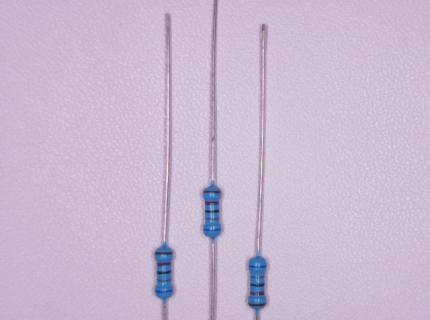Black band: (250, 282, 265, 287), (157, 270, 171, 274), (205, 209, 219, 213)
Blue band: (155, 289, 173, 293), (249, 265, 267, 268), (204, 228, 220, 231)
Brown band: (155, 251, 172, 255), (248, 303, 266, 306), (204, 191, 220, 194)
Grey band: (157, 278, 171, 282), (250, 276, 264, 279), (205, 218, 219, 220)
Red band: (157, 262, 171, 267), (205, 201, 219, 205), (250, 291, 264, 295)
